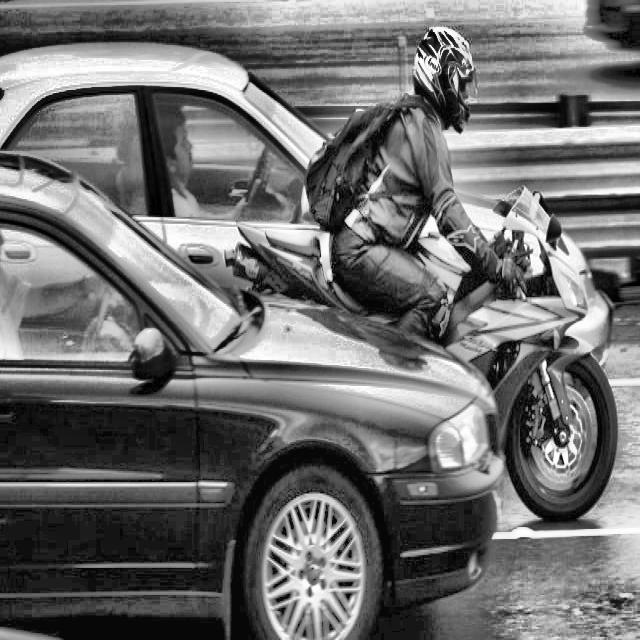Helmet: (408, 19, 482, 156)
